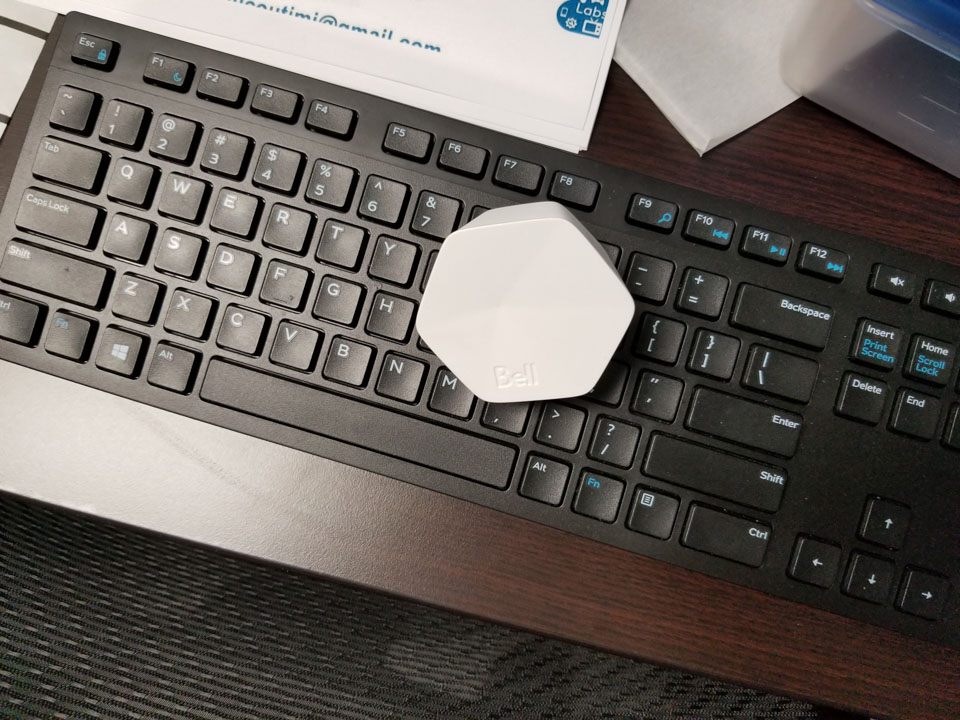pod: (412, 197, 640, 409)
